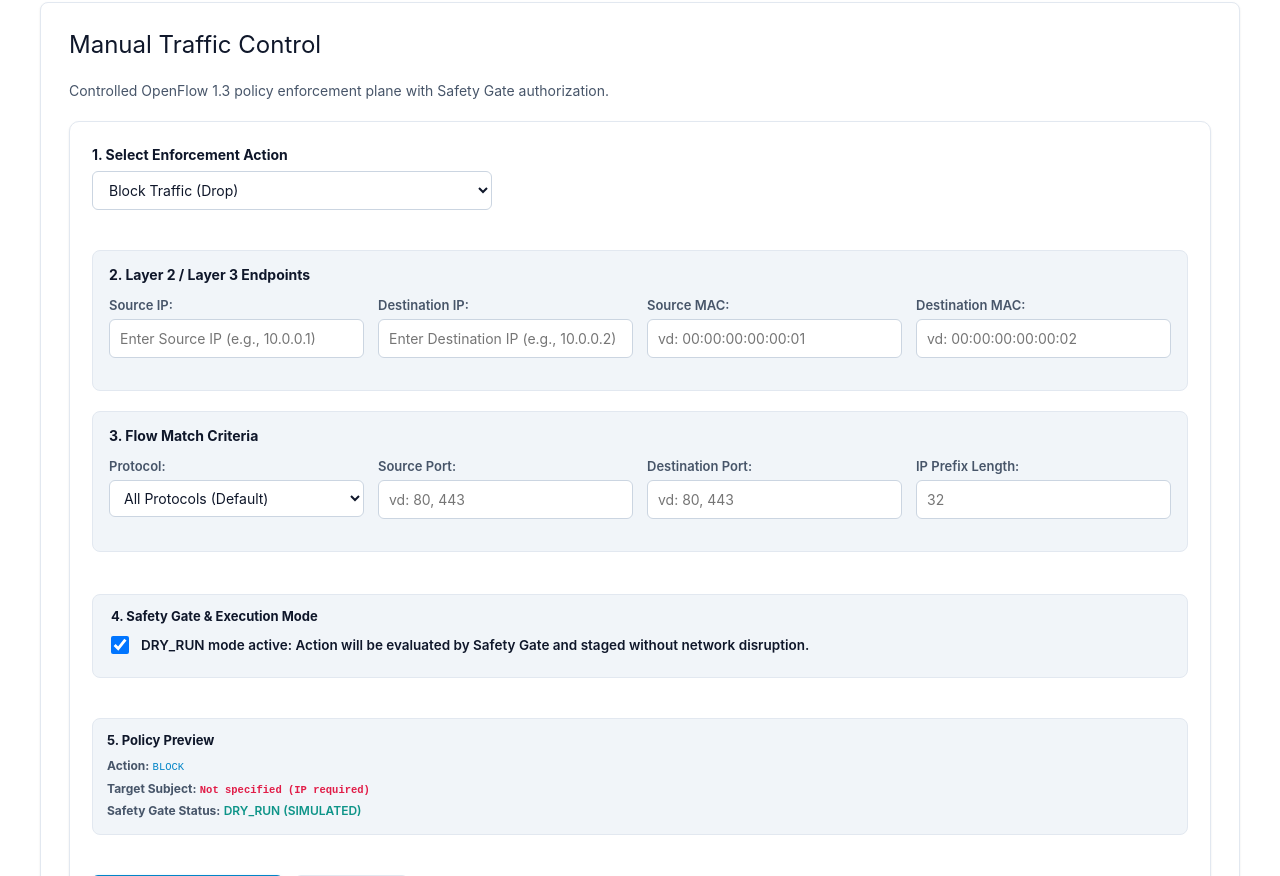
Scenario: ManualTrafficControl 5-Step Execution Workflow › resets form when reset button is clicked
Type "10.0.0.5" into the field with placeholder "Enter Source IP (e.g., 10.0.0.1)". click: x=236, y=339
box: [109, 319, 364, 358]
(page scrolled)
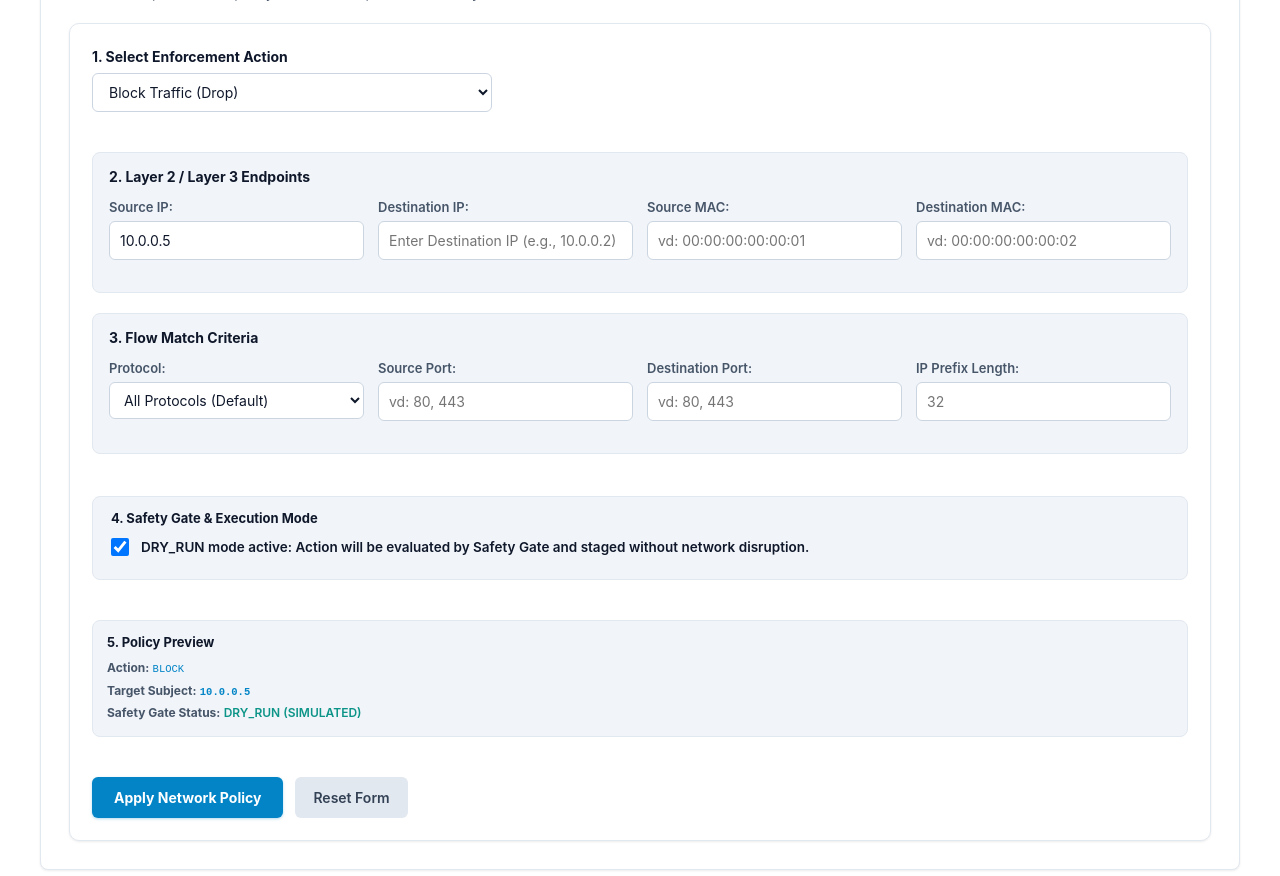
Click the button "Reset Form". click: x=352, y=798
box: [295, 777, 408, 818]
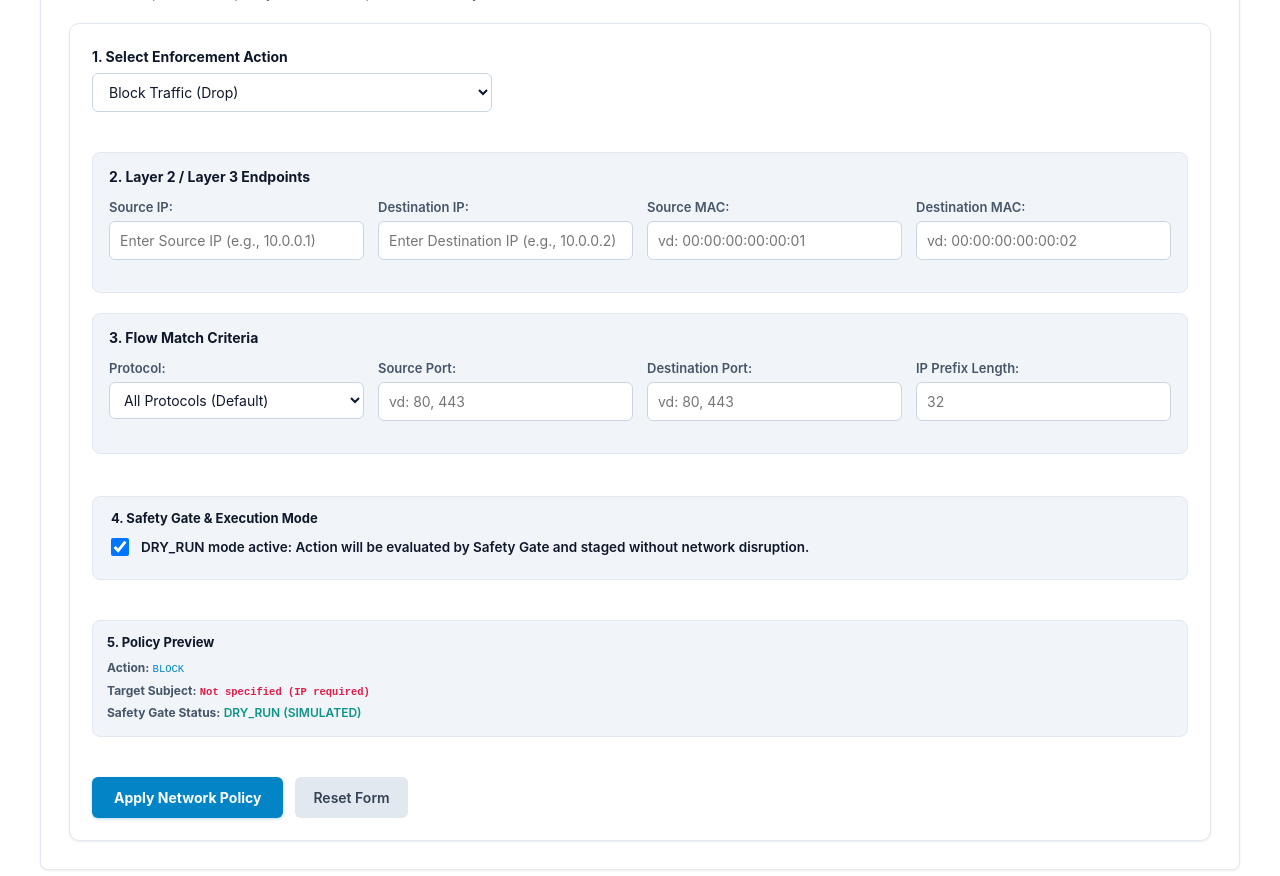
Now the field with placeholder "Enter Source IP (e.g., 10.0.0.1)" is empty, box [109, 221, 364, 260]
